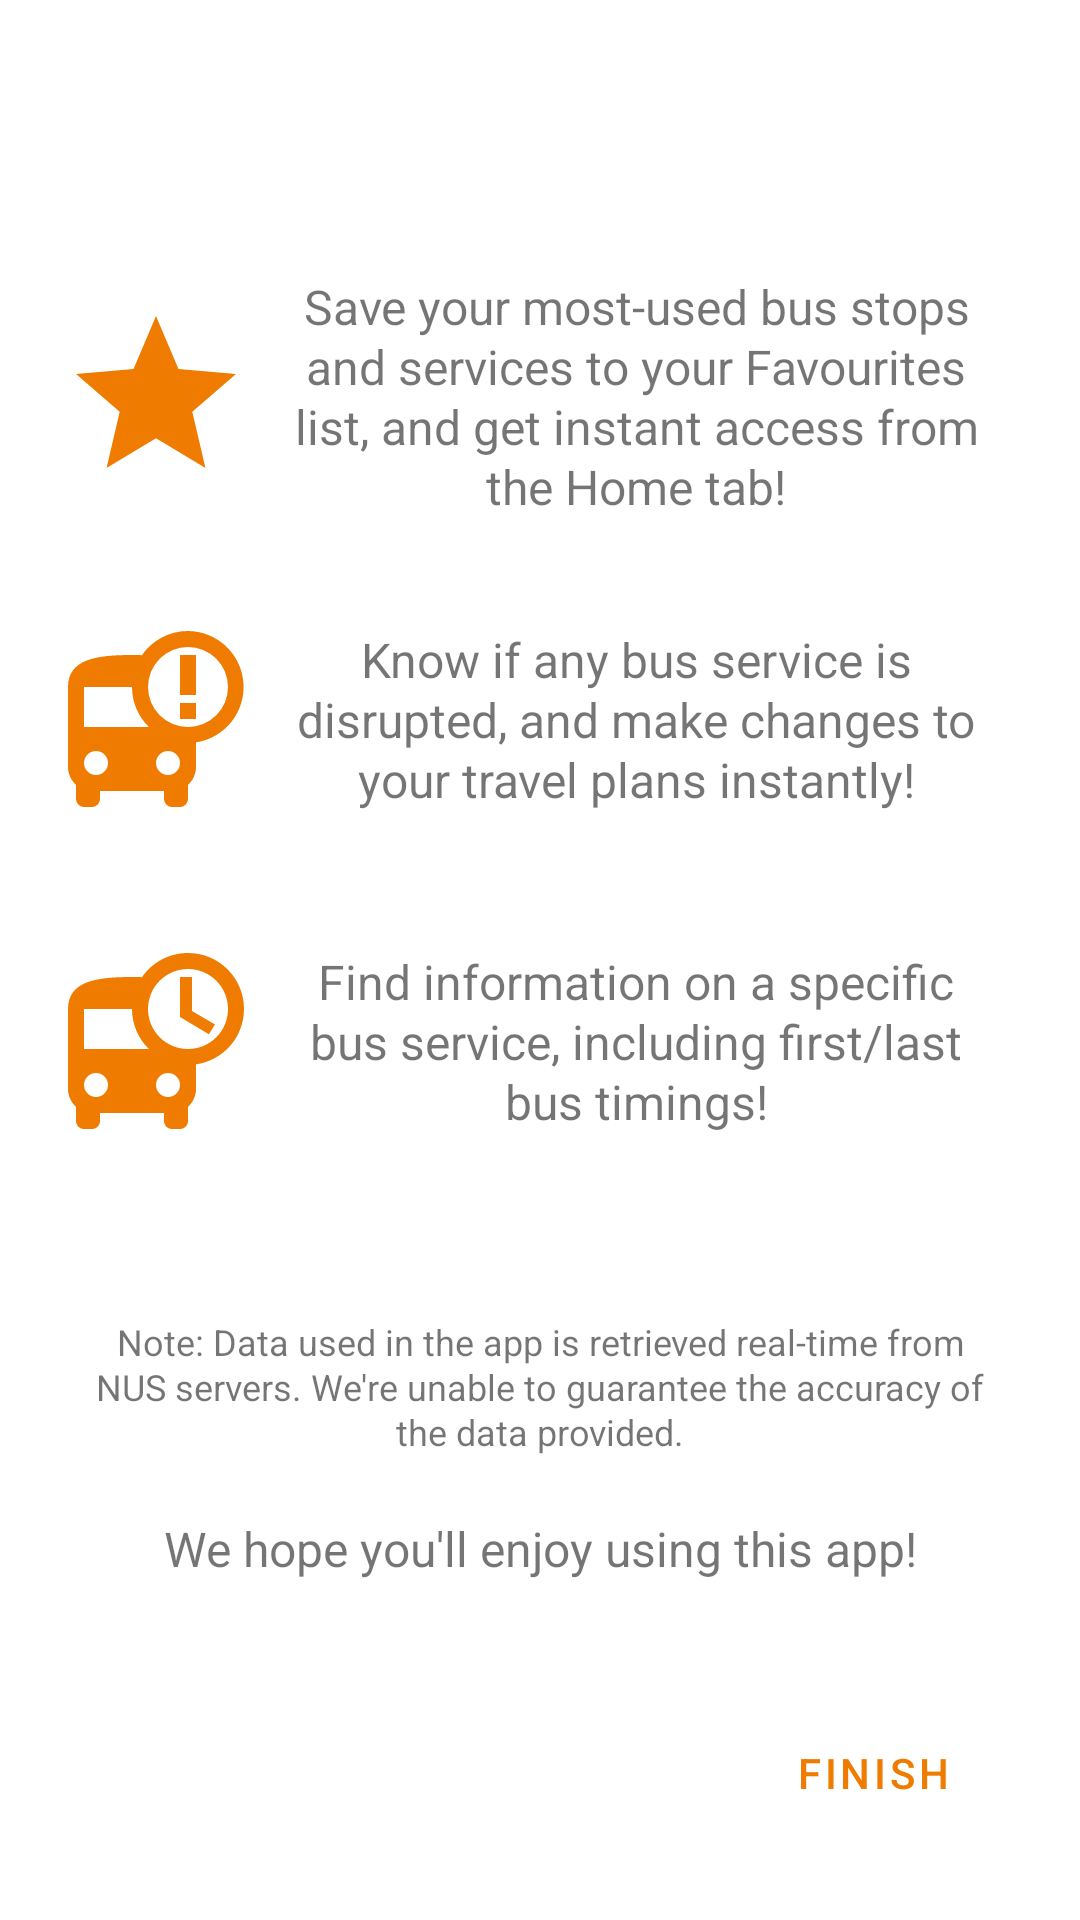

Icons on this 1080 × 1920 Android screen, each with the point to tap as point (x, y):
bus alert: point (156, 719)
departure board: point (156, 1041)
star: point (156, 392)
